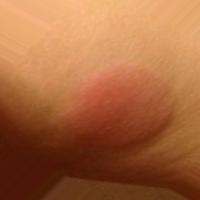Mosquito: (76, 65, 174, 150)
